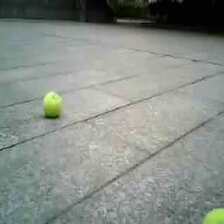tennis: (42, 92, 62, 116)
